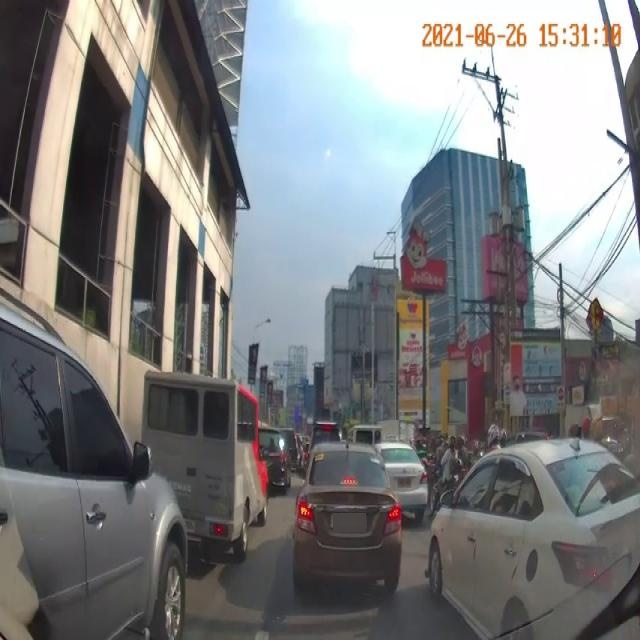car: (0, 312, 189, 639), (436, 449, 640, 634), (137, 360, 270, 563), (287, 440, 410, 608)
